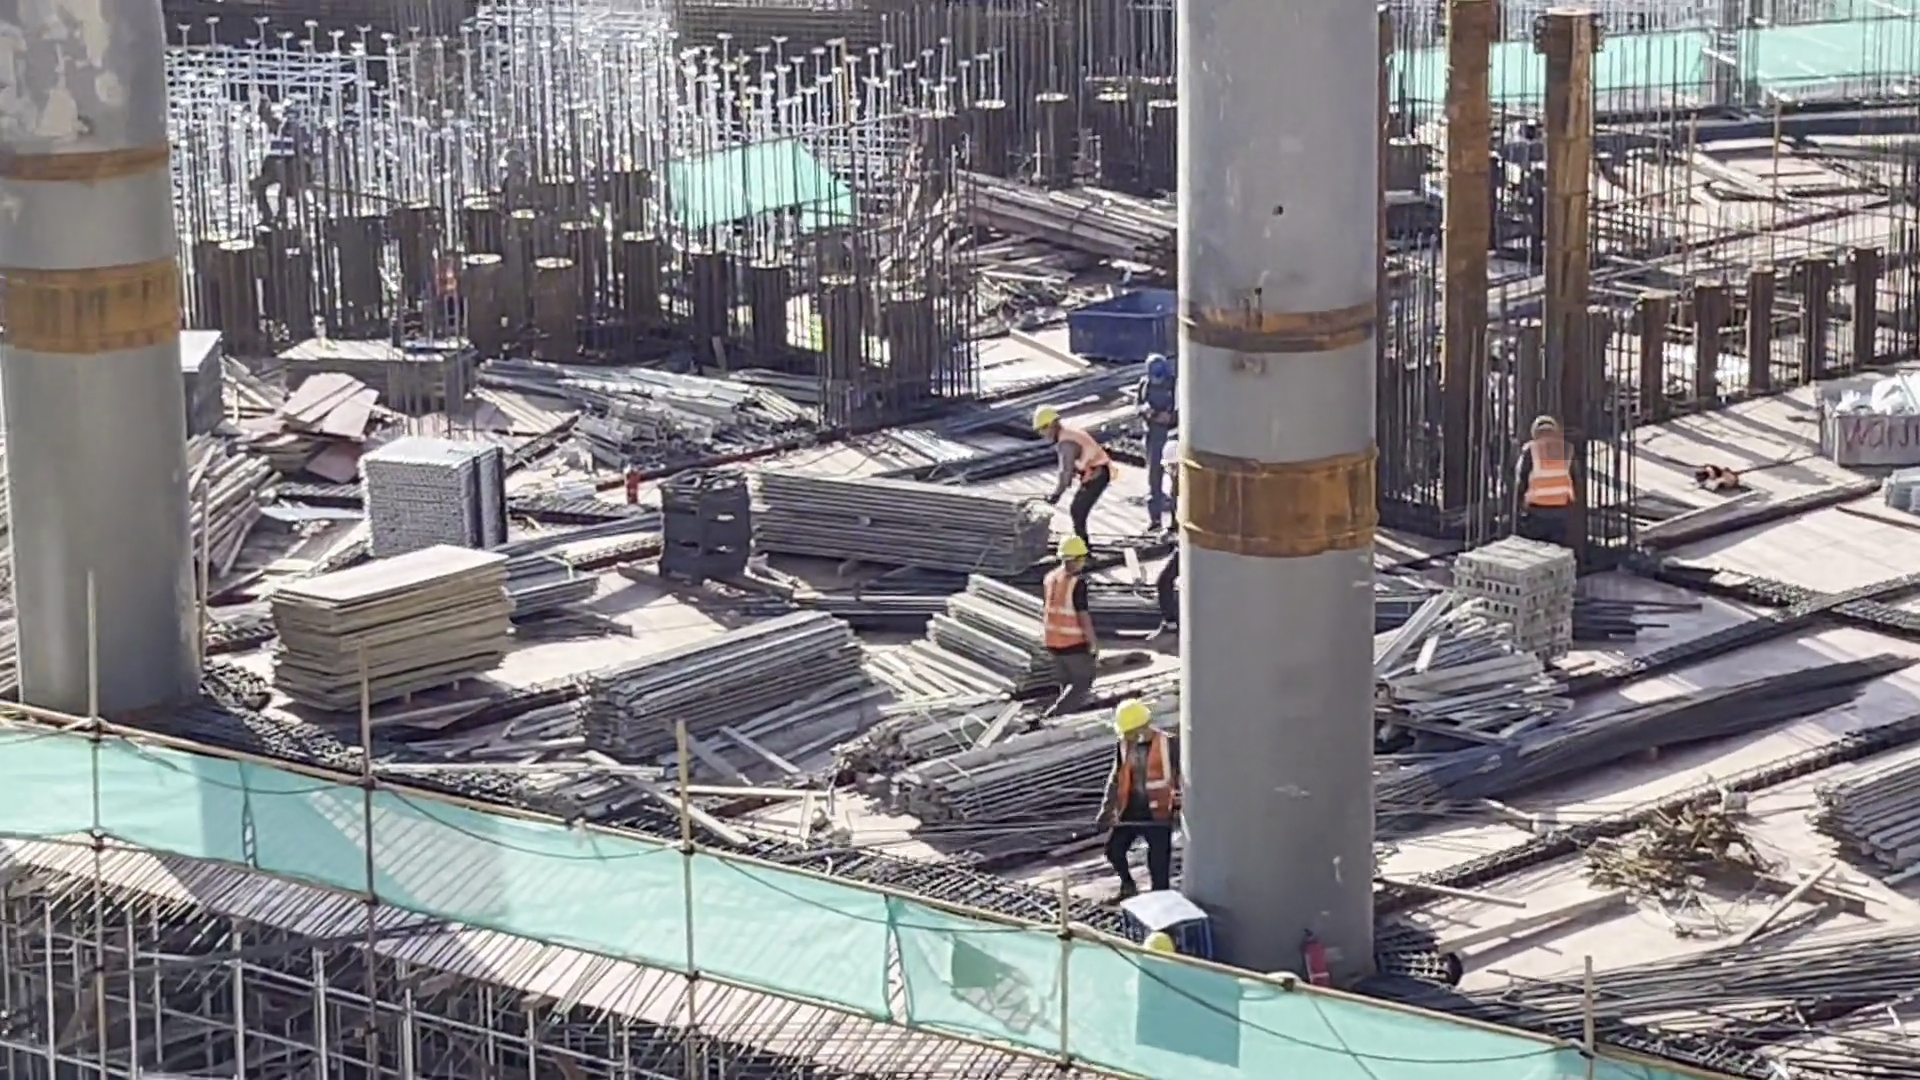board: (298, 571, 469, 697), (286, 341, 473, 419), (274, 384, 393, 462), (193, 337, 236, 452)
helmet: (1113, 691, 1169, 737), (1064, 536, 1094, 567), (1534, 416, 1568, 437), (1151, 352, 1168, 374), (1034, 412, 1063, 422), (255, 101, 273, 117)
hopper: (1823, 362, 1920, 472), (1071, 286, 1193, 362)
person: (1026, 388, 1113, 555), (1094, 693, 1168, 873), (1504, 403, 1588, 545), (1129, 353, 1203, 503), (254, 93, 308, 198), (1048, 528, 1071, 675)
rebar: (1338, 648, 1904, 806), (1483, 903, 1920, 1059), (934, 350, 1154, 435)
scaffold: (388, 414, 523, 571)
vest: (1106, 737, 1171, 817), (1033, 559, 1081, 646), (1521, 429, 1564, 511), (1049, 439, 1088, 486), (1138, 382, 1166, 436), (265, 114, 291, 157), (1174, 472, 1188, 542)
